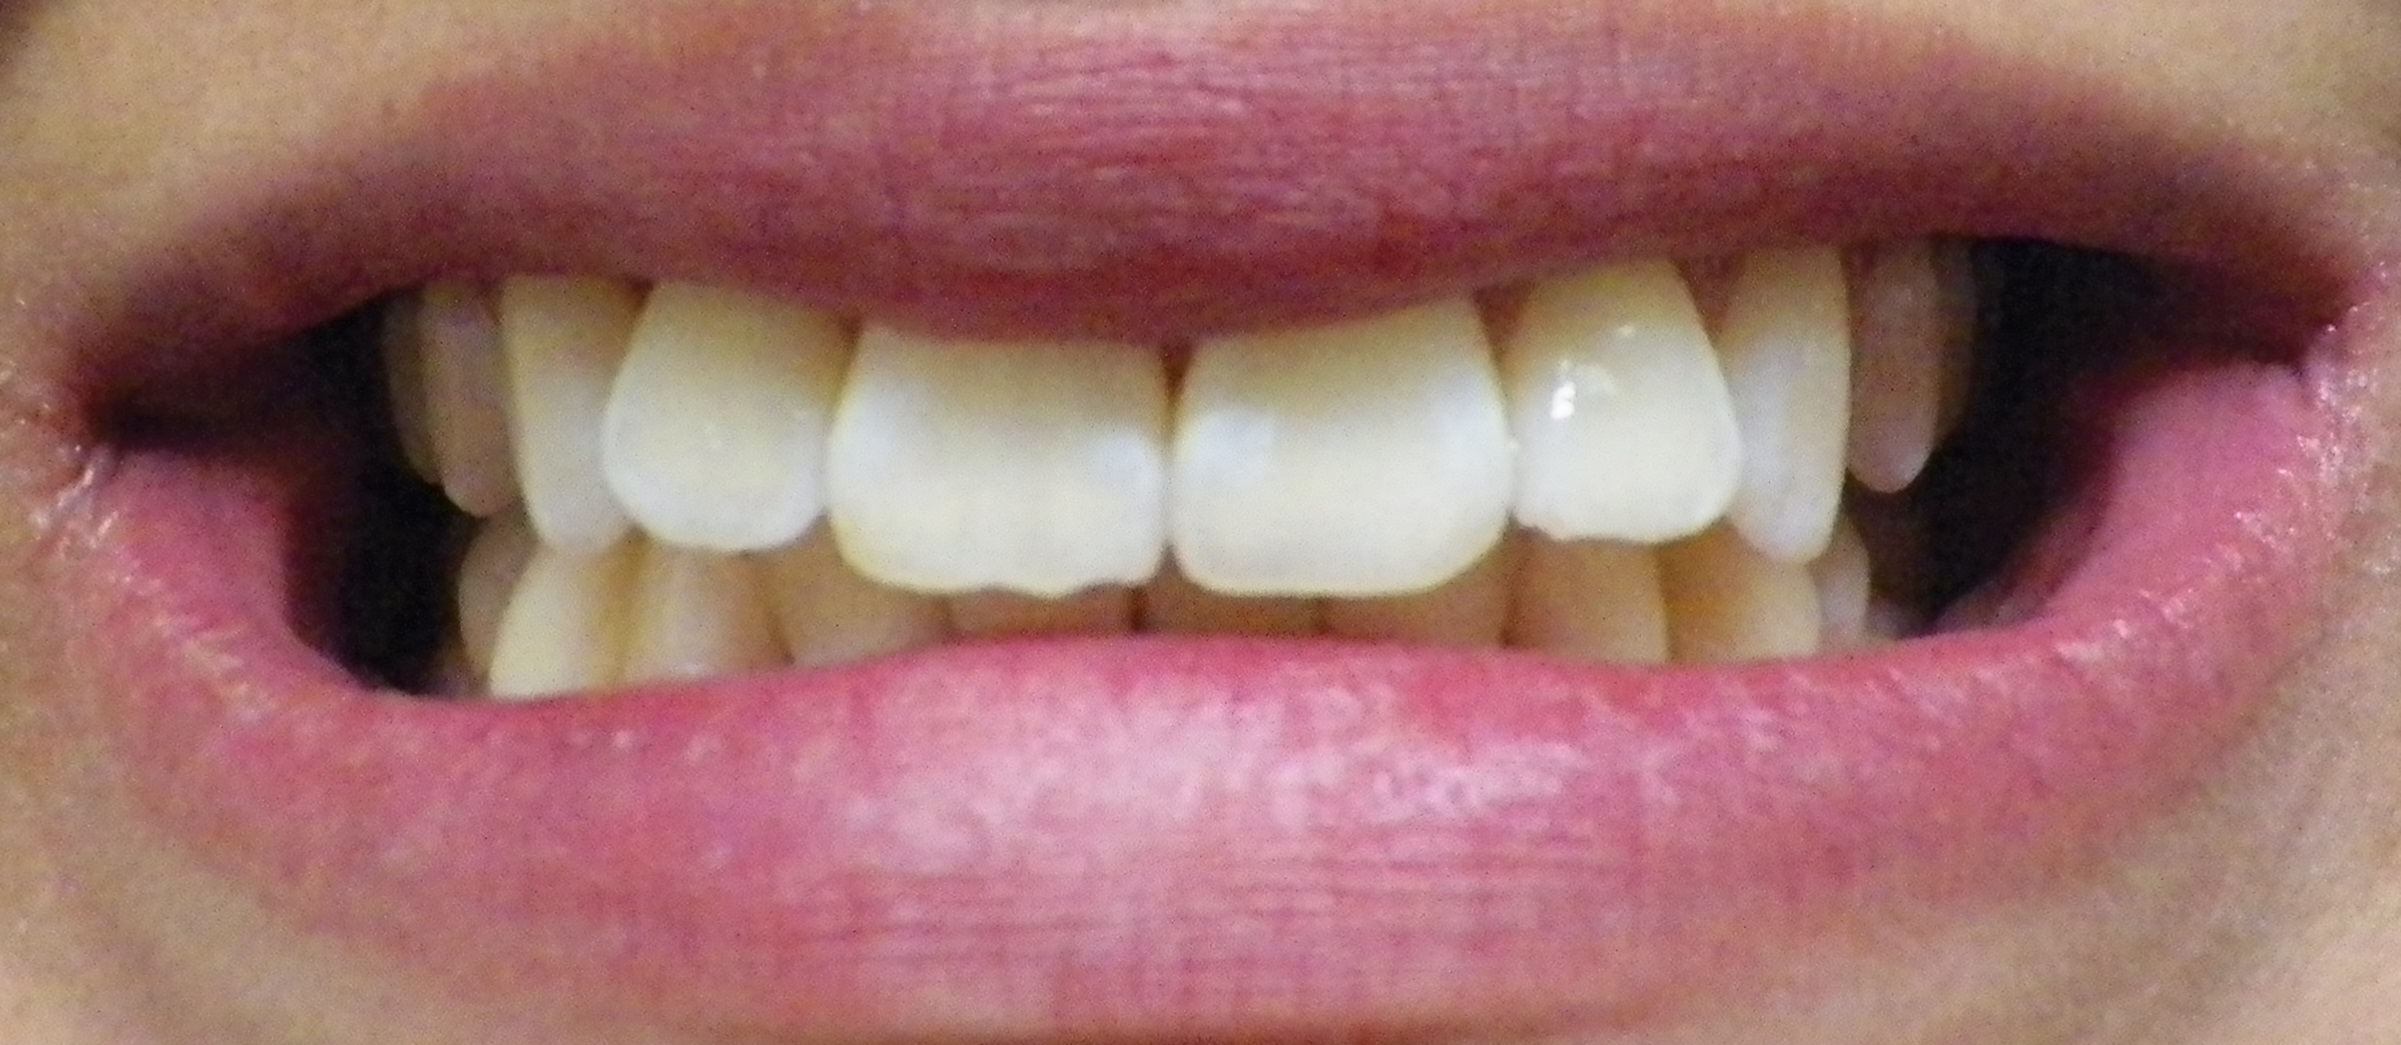boca: (400, 247, 1997, 709)
